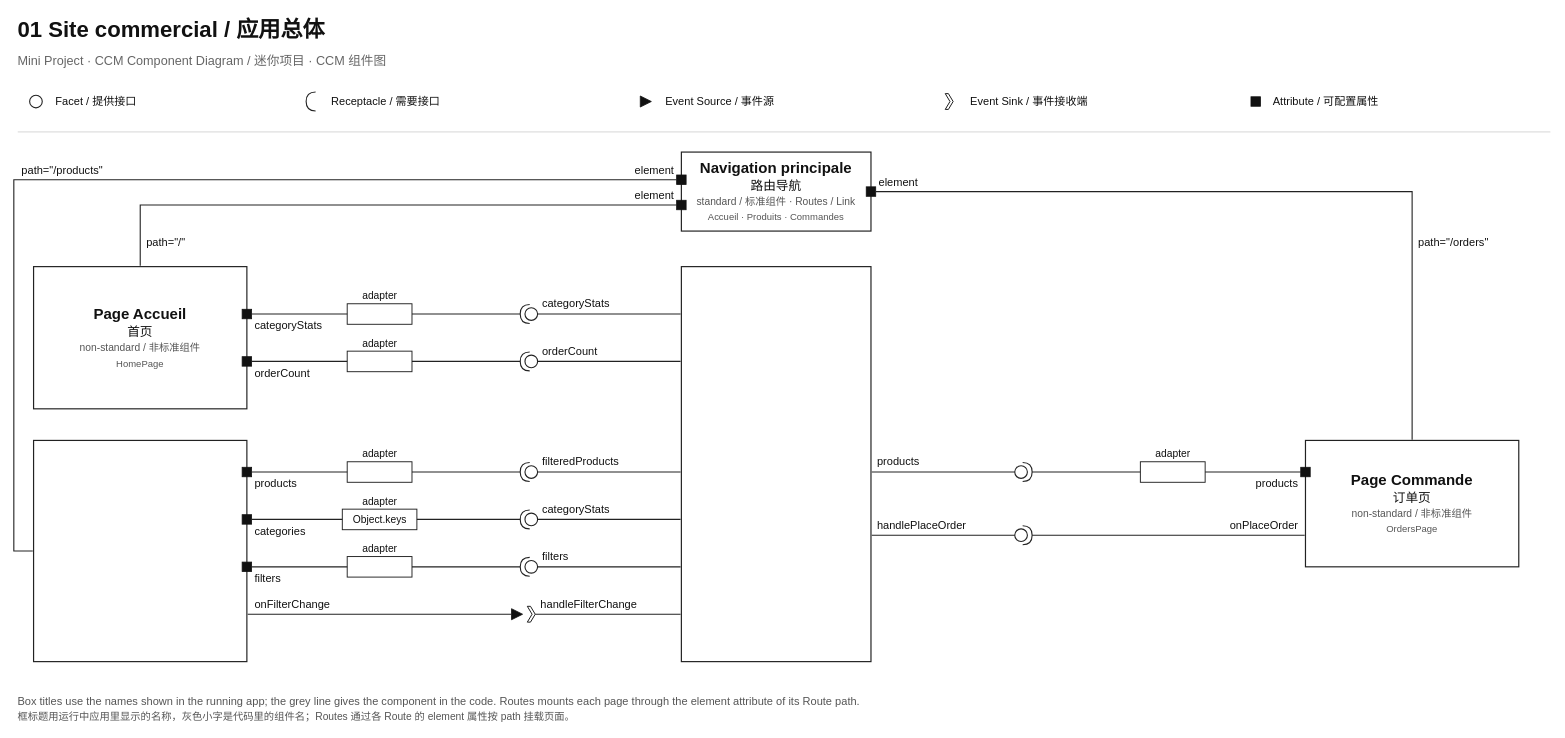
Some shapes in this 1565 by 738 pixel diagram are drawn without their labels. Here are the shapes that lost their labels. From the top down, the centre of each, then its label:
(775,464): useShopController 商店控制器 React Hook
(140,550): Page Produits 商品页 non-standard / 非标准组件 ProductsPage
